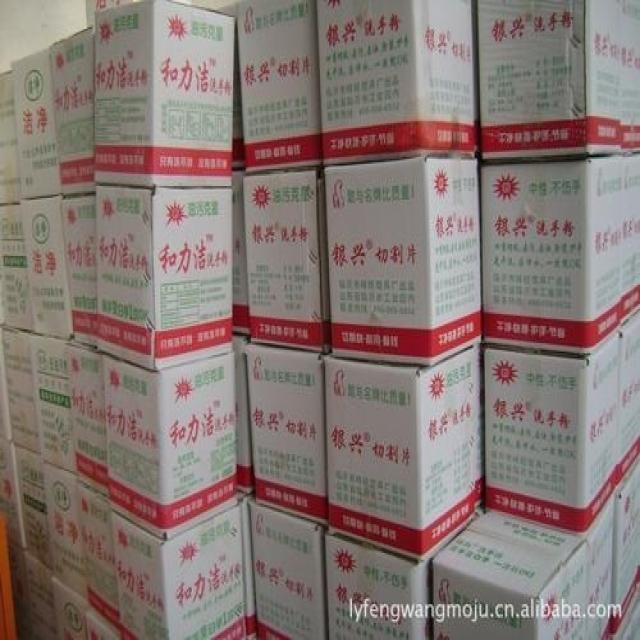box: (325, 341, 485, 561), (324, 155, 480, 365), (479, 152, 622, 353), (484, 331, 618, 536), (93, 0, 237, 188), (315, 2, 477, 164), (100, 350, 238, 539), (97, 183, 234, 369), (474, 0, 625, 162), (431, 509, 586, 640), (109, 503, 248, 638), (243, 162, 333, 355), (236, 0, 324, 172), (246, 345, 328, 527), (329, 532, 435, 640), (250, 502, 330, 638), (51, 22, 97, 196), (12, 49, 61, 200), (22, 198, 73, 341), (77, 474, 119, 638), (42, 461, 88, 601), (68, 341, 109, 498), (33, 333, 76, 474), (60, 195, 99, 348), (1, 324, 41, 463), (585, 497, 620, 638), (14, 442, 51, 575), (614, 461, 640, 635), (617, 309, 640, 495), (621, 147, 640, 328), (0, 72, 22, 203), (23, 553, 56, 638), (622, 0, 640, 154), (0, 435, 24, 548), (51, 577, 90, 638), (9, 548, 31, 640), (88, 614, 120, 640)
